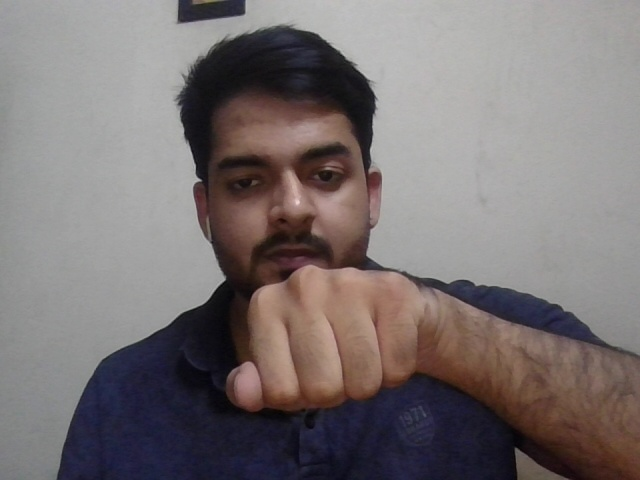yes: (226, 262, 420, 411)
